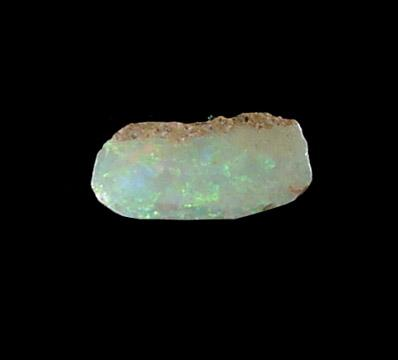opal: (92, 126, 312, 220)
